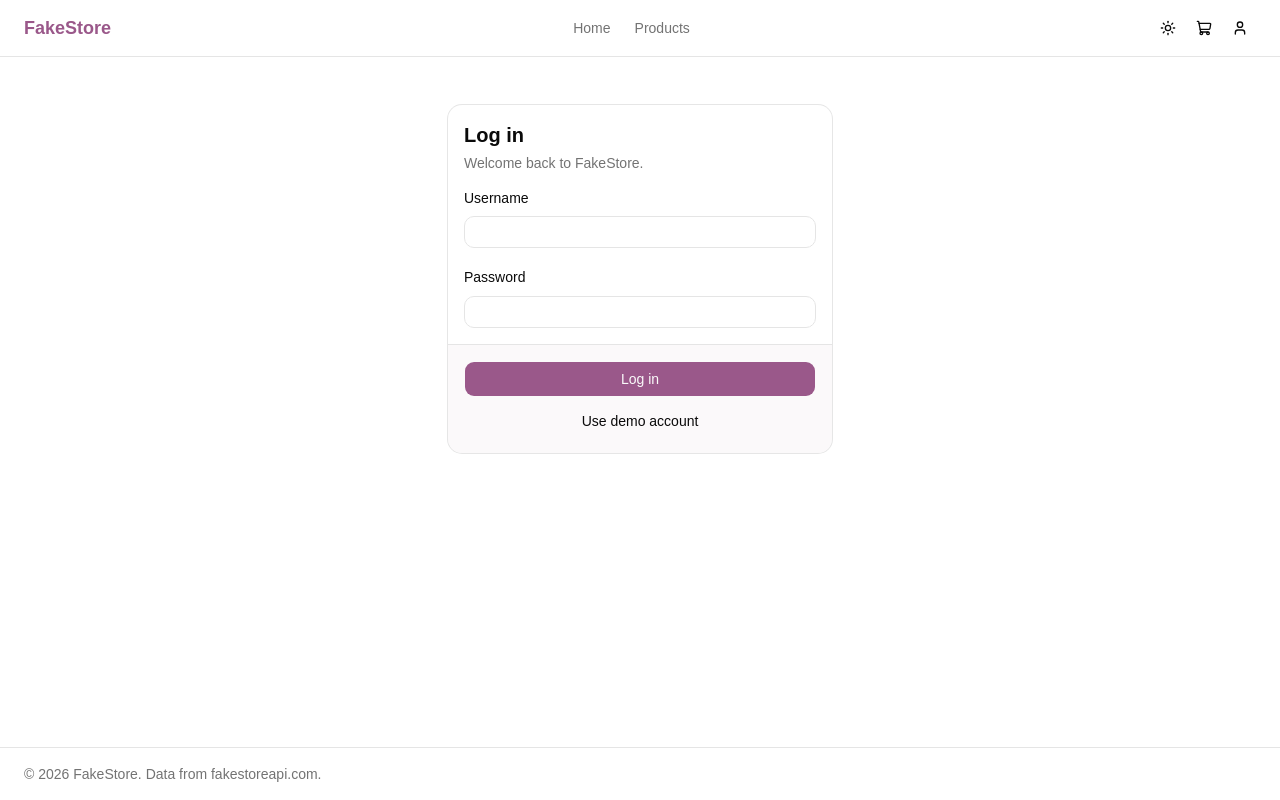
Test: LoginPage › shows field errors and sends nothing when the form is empty
The width and height of the screenshot is (1280, 800).
Expected: the heading "Log in" is shown, [464,124,524,146]
Click the button "Log in" at (640, 378), box [464,360,816,396]
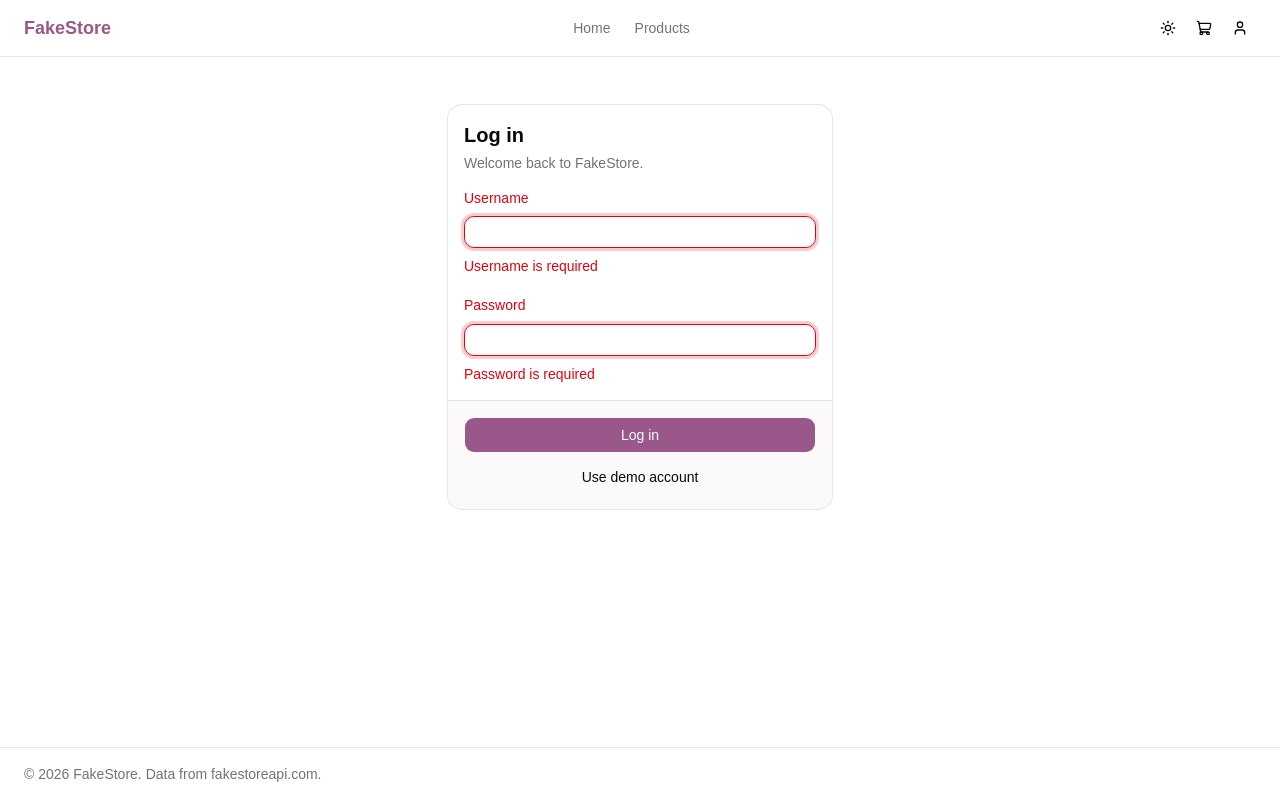
Expected: the text "Username is required" is shown, [464,258,598,274]
Expected: the text "Password is required" is shown, [464,366,595,382]
